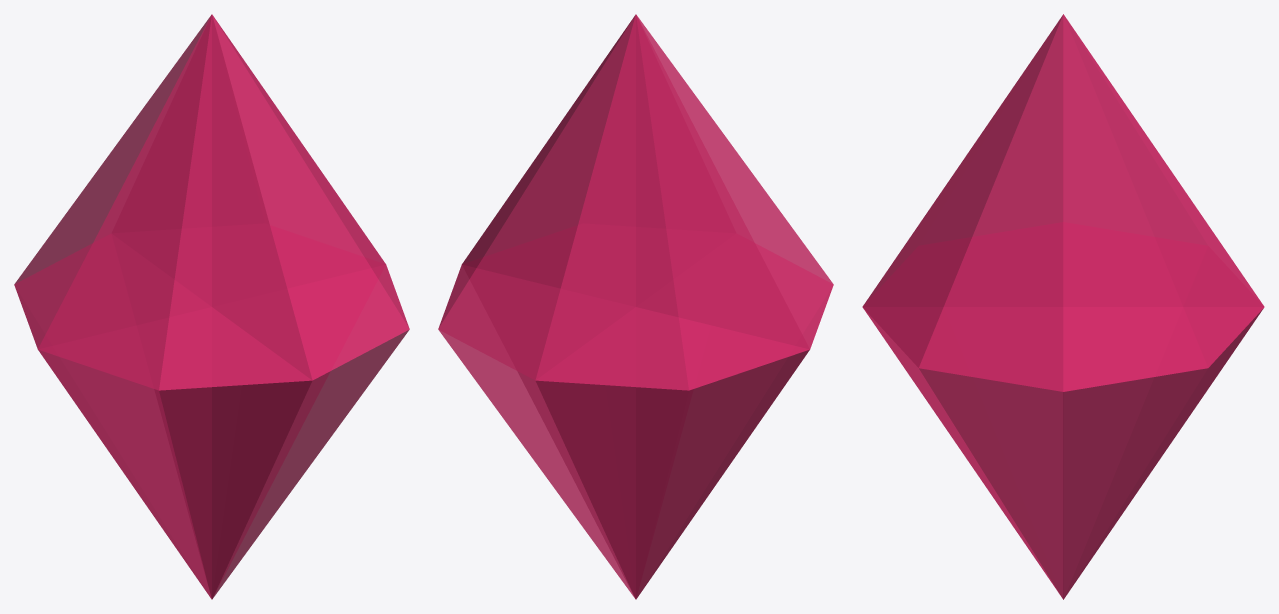
File: CheckPoint.fbx
The picture shows the model from 3 angles, left to right: view 1: azimuth 30°, elevation 25°; view 2: azimuth 150°, elevation 25°; view 3: azimuth 270°, elevation 25°; orthographic projection.
Parts seen in each view (by area): view 1: Plane; view 2: Plane; view 3: Plane.
Boxes of the visible parts, x1=… form: Plane: x1=14, y1=14, x2=409, y2=599; Plane: x1=438, y1=14, x2=833, y2=599; Plane: x1=862, y1=14, x2=1264, y2=599.
Size of the model in its own units: 112 by 180 by 112.
